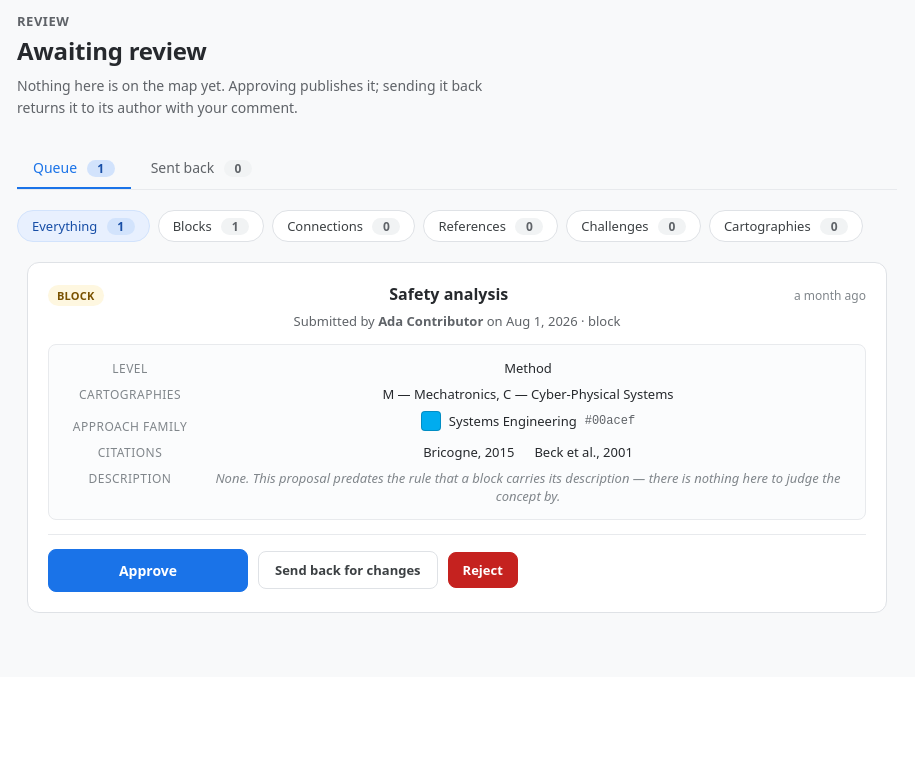
Test: the three decisions › sends back, and the submission moves to the sent-back view
Expected: the text "Safety analysis" is shown, [389,283,508,305]
Click the button "Send back for changes" at (348, 570), box [258,551,438,589]
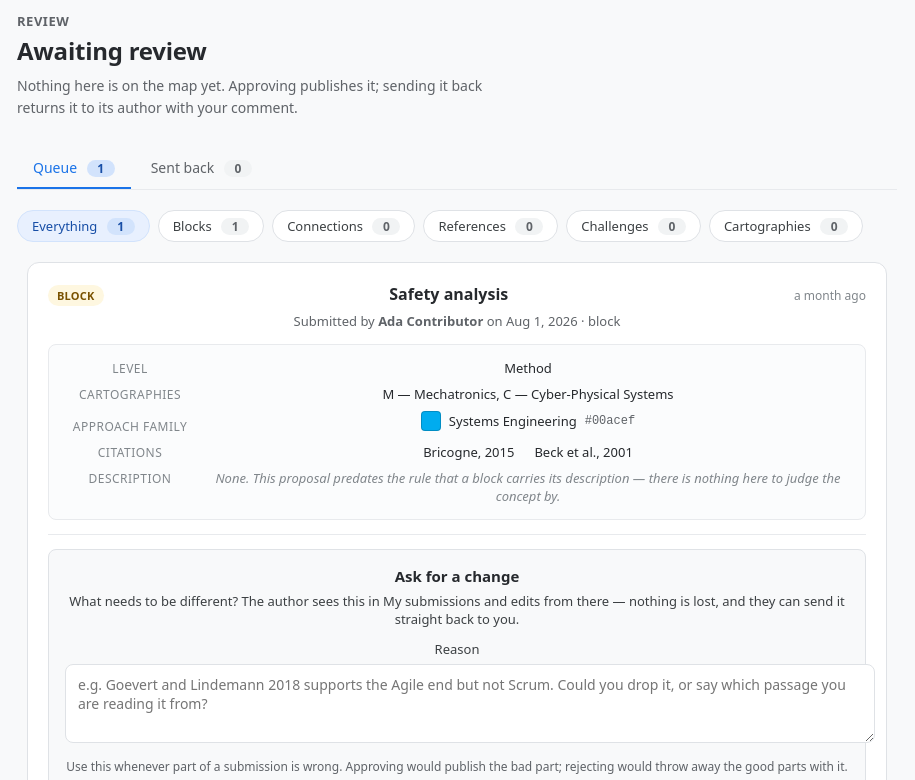
Replace the text in the text box labelled "Reason" with "Wrong level." at (470, 703), box [65,664,875,743]
(page scrolled)
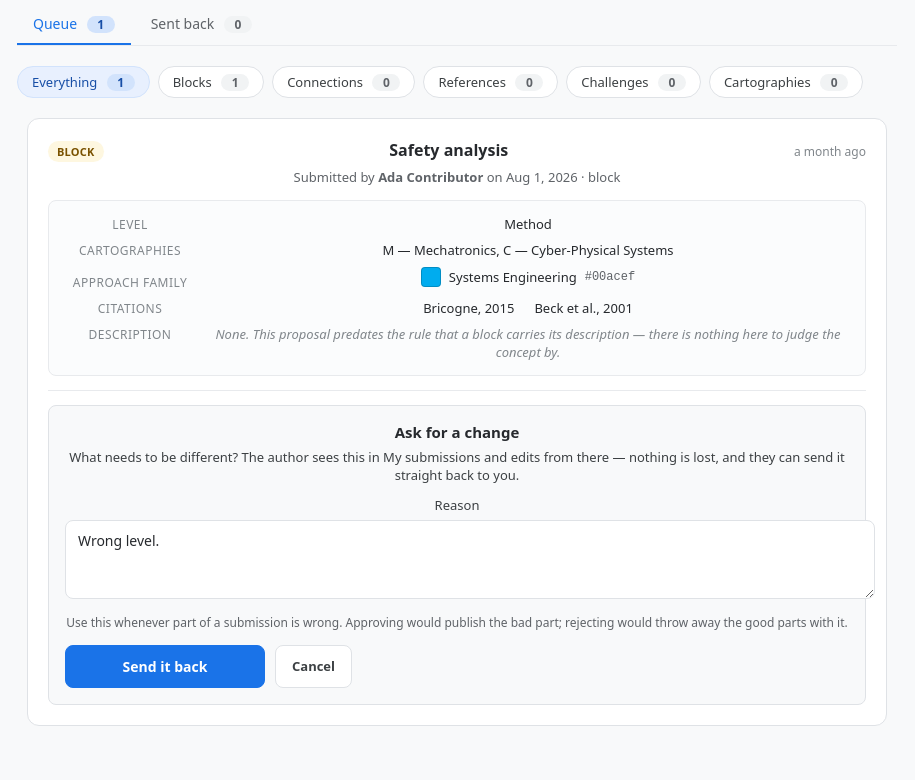
Click the button "Send it back" at (165, 666), box [65,645,265,688]
(page scrolled)
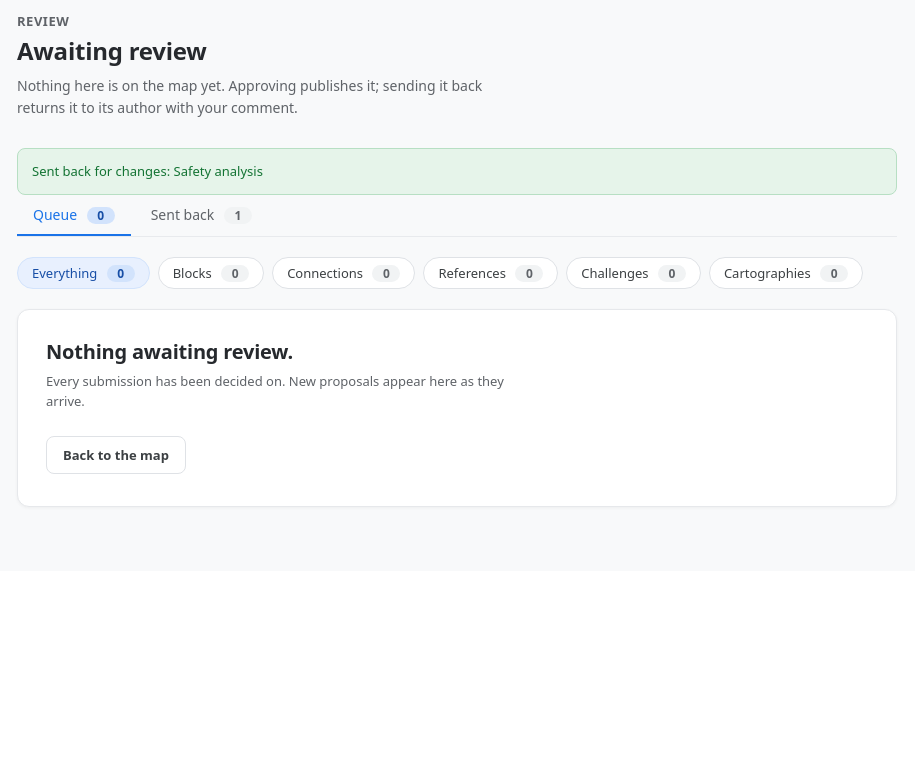
Click the tab "Sent back 1" at (201, 215), box [135,195,268,236]
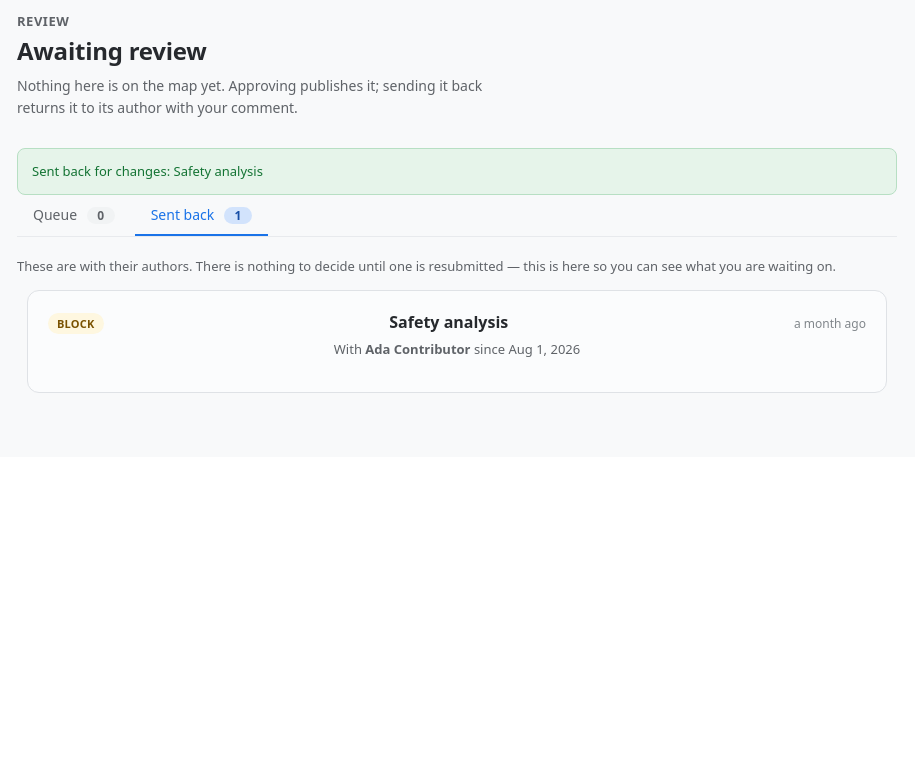
Now the text "Safety analysis" is shown, box [389,311,508,333]
